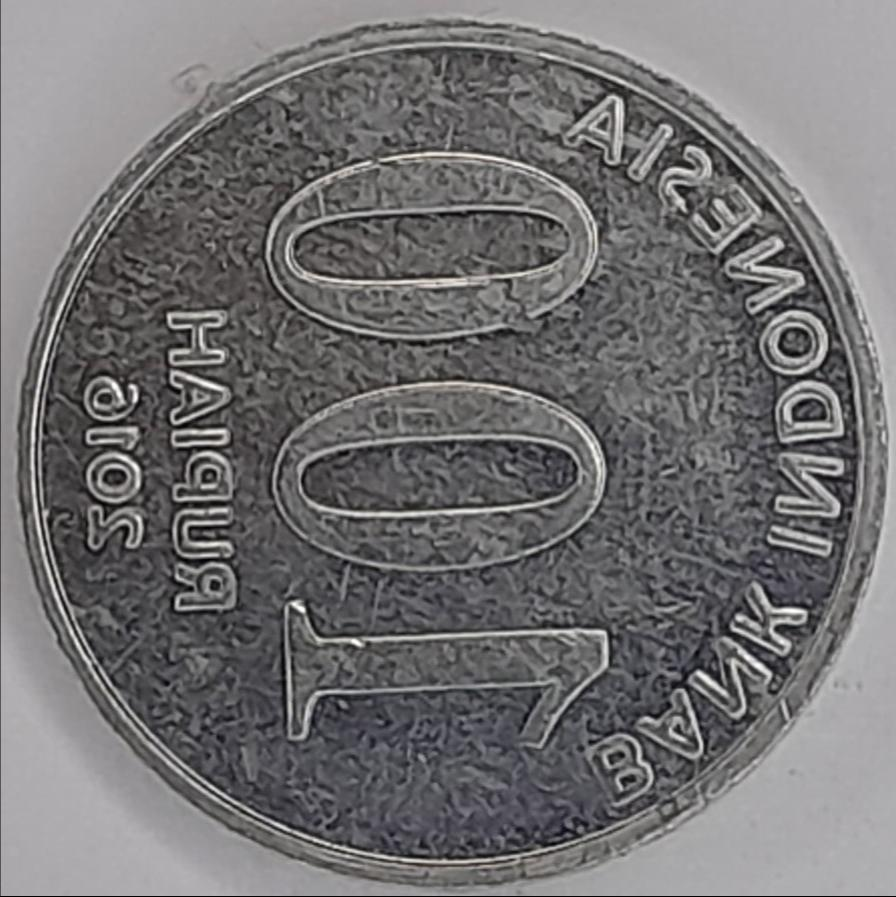coin_100_e2016: (11, 11, 894, 889)
